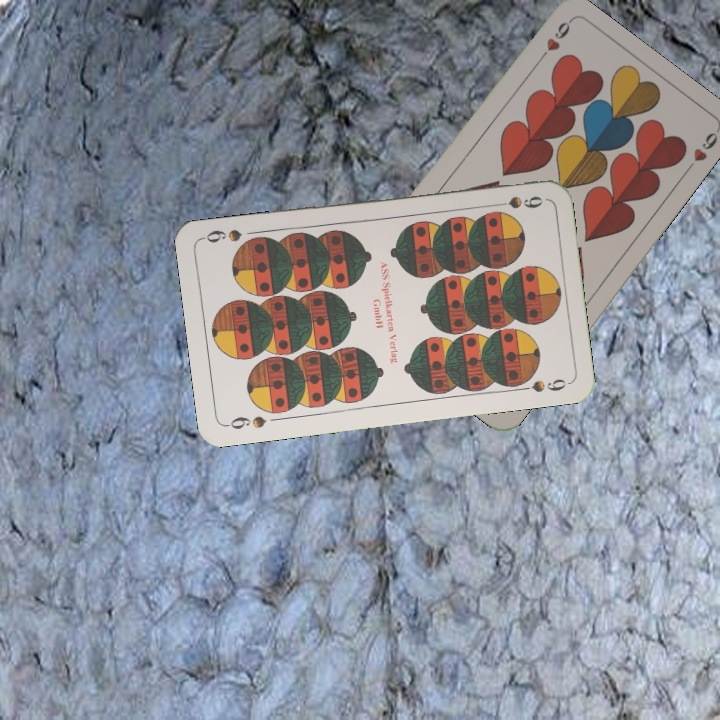H9: (532, 17, 574, 67)
S9: (487, 192, 545, 211), (222, 412, 269, 432)
